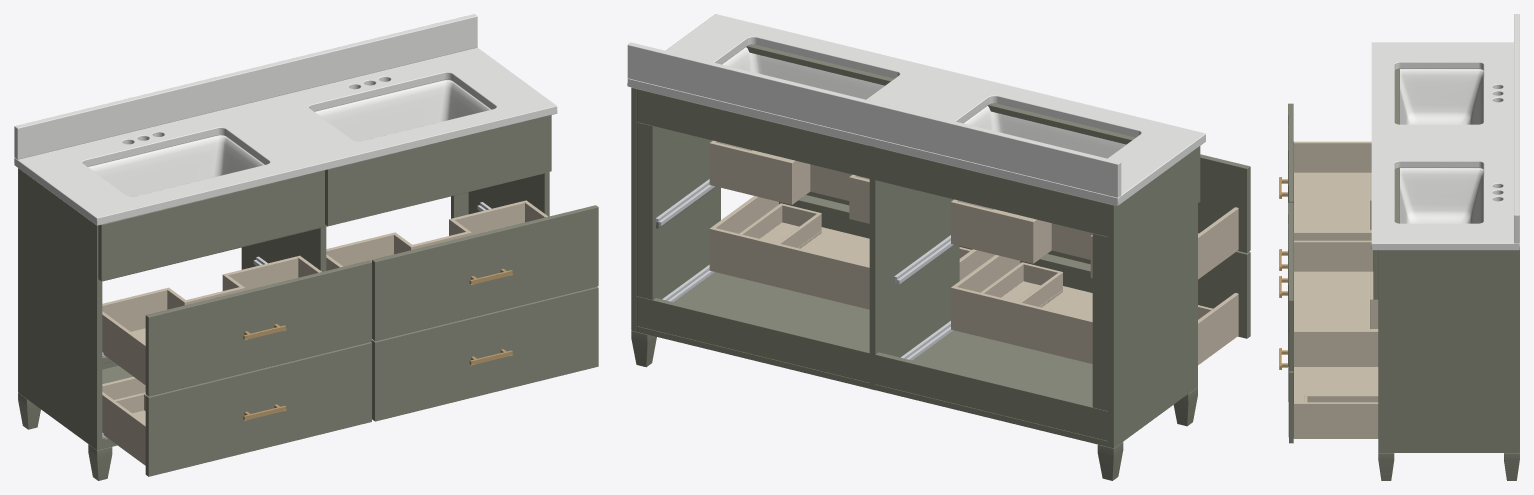
Rendered from Everdale_61_Vanity_Interactive.glb.
3 renders of one model, left to right at view 1: azimuth 30°, elevation 25°; view 2: azimuth 150°, elevation 25°; view 3: azimuth 270°, elevation 25°, orthographic. The views are drawn at different scales.
Visible parts, largest first — view 1: Stone_Top, Cabinet_Side_Left, Drawer01_Front, Drawer01_Front_R, Drawer02_Front, Drawer02_Front_R, Backsplash, False_Drawer_Right, False_Drawer_Left, Integrated_Sink, Drawer01_Back, Drawer01_Back_R (+6 smaller); view 2: Cabinet_Back, Stone_Top, Cabinet_Side_Left, Backsplash, Cabinet_Bottom, Cabinet_Center_Divider, Cabinet_Side_Right, Drawer02_Back_R, Drawer01_Back_R, Drawer02_Back, Integrated_Sink, Drawer01_Back (+19 smaller); view 3: Cabinet_Side_Right, Stone_Top, Integrated_Sink, Drawer01_Bottom_R, Drawer01_Bottom, Drawer01_Right_R, Drawer02_Right_R, Drawer01_Left_R, Drawer01_Left, Drawer02_Bottom_R, Backsplash, Drawer01_Front_R (+9 smaller).
Part boxes in pixels (x1=…): Stone_Top: x1=14, y1=47, x2=557, y2=225; Cabinet_Side_Left: x1=18, y1=168, x2=102, y2=450; Drawer01_Front: x1=145, y1=260, x2=371, y2=396; Drawer01_Front_R: x1=372, y1=205, x2=598, y2=340; Drawer02_Front: x1=145, y1=342, x2=371, y2=476; Drawer02_Front_R: x1=372, y1=286, x2=598, y2=421; Backsplash: x1=14, y1=14, x2=477, y2=159; False_Drawer_Right: x1=325, y1=115, x2=551, y2=226; False_Drawer_Left: x1=98, y1=170, x2=324, y2=281; Integrated_Sink: x1=88, y1=80, x2=490, y2=196; Drawer01_Back: x1=102, y1=256, x2=298, y2=331; Drawer01_Back_R: x1=326, y1=201, x2=524, y2=266; Cabinet_Back: x1=637, y1=89, x2=1108, y2=440; Stone_Top: x1=627, y1=14, x2=1205, y2=205; Cabinet_Side_Left: x1=1108, y1=148, x2=1197, y2=448; Backsplash: x1=627, y1=42, x2=1121, y2=197; Cabinet_Bottom: x1=637, y1=272, x2=1108, y2=446; Cabinet_Center_Divider: x1=869, y1=145, x2=959, y2=390; Cabinet_Side_Right: x1=631, y1=87, x2=720, y2=331; Drawer02_Back_R: x1=713, y1=228, x2=869, y2=309; Drawer01_Back_R: x1=713, y1=142, x2=869, y2=223; Drawer02_Back: x1=954, y1=287, x2=1092, y2=363; Integrated_Sink: x1=722, y1=47, x2=1125, y2=158; Drawer01_Back: x1=954, y1=201, x2=1092, y2=278; Cabinet_Side_Right: x1=1378, y1=250, x2=1519, y2=452; Stone_Top: x1=1371, y1=42, x2=1519, y2=250; Integrated_Sink: x1=1400, y1=69, x2=1483, y2=223; Drawer01_Bottom_R: x1=1293, y1=271, x2=1378, y2=330; Drawer01_Bottom: x1=1293, y1=172, x2=1371, y2=231; Drawer01_Right_R: x1=1293, y1=330, x2=1378, y2=366; Drawer02_Right_R: x1=1293, y1=402, x2=1378, y2=438; Drawer01_Left_R: x1=1293, y1=240, x2=1372, y2=271; Drawer01_Left: x1=1293, y1=141, x2=1371, y2=172; Drawer02_Bottom_R: x1=1293, y1=367, x2=1378, y2=402; Backsplash: x1=1514, y1=14, x2=1519, y2=243; Drawer01_Front_R: x1=1288, y1=202, x2=1293, y2=371.
Size of the model in its own units: 1.55 by 0.9652 by 0.7832.
